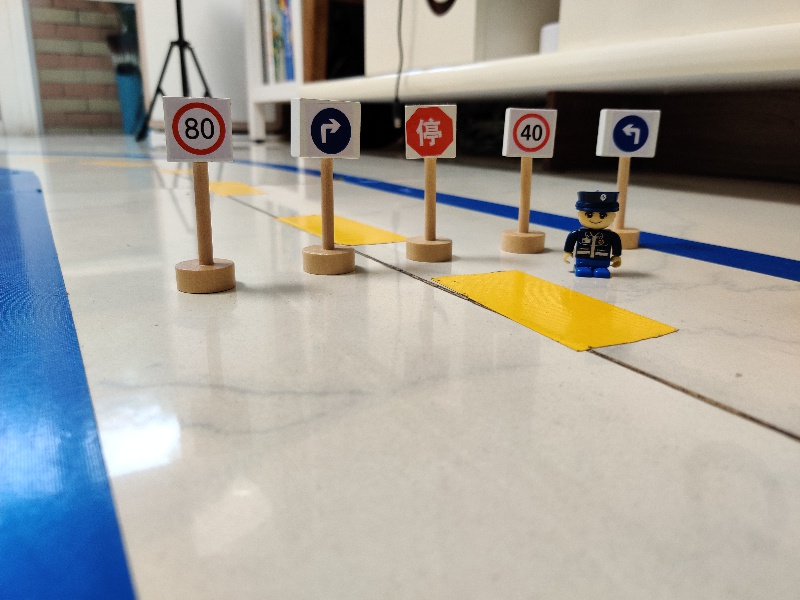limit_40: (497, 103, 561, 160)
limit_80: (157, 96, 235, 163)
person: (559, 188, 625, 282)
stop: (398, 100, 460, 161)
turn_left: (590, 105, 663, 160)
turn_right: (285, 97, 365, 160)
